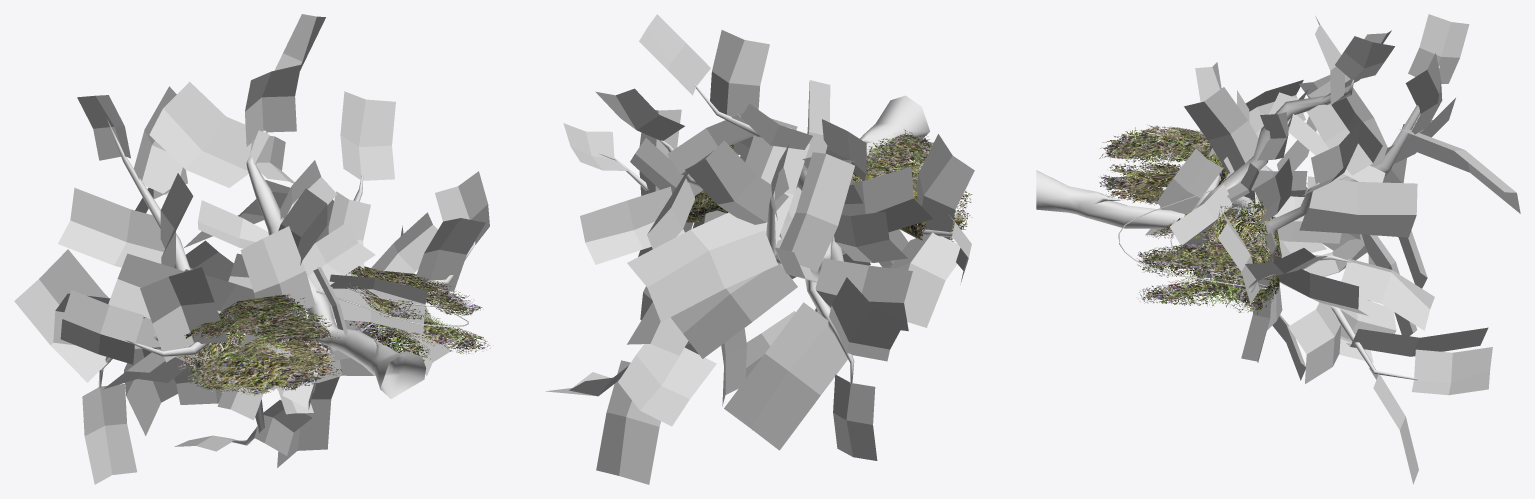
The model's file is Tree 1 v1 - LOD 1.fbx.
3 renders of one model, left to right at view 1: azimuth 30°, elevation 25°; view 2: azimuth 150°, elevation 25°; view 3: azimuth 270°, elevation 25°, orthographic. The views are drawn at different scales.
Parts seen in each view (by area): view 1: Branches 1 v1 - LOD 1, Hanging Moss 1 v1 - LOD 1, Bark 1 v1 - LOD 1; view 2: Branches 1 v1 - LOD 1, Bark 1 v1 - LOD 1, Hanging Moss 1 v1 - LOD 1; view 3: Branches 1 v1 - LOD 1, Hanging Moss 1 v1 - LOD 1, Bark 1 v1 - LOD 1, Vines 1 v1 - LOD 1.
Part boxes in pixels (left/top/right/bottom): Branches 1 v1 - LOD 1: left=14, top=14, right=489, bottom=484; Hanging Moss 1 v1 - LOD 1: left=176, top=266, right=490, bottom=395; Bark 1 v1 - LOD 1: left=98, top=119, right=475, bottom=445; Branches 1 v1 - LOD 1: left=546, top=14, right=974, bottom=484; Bark 1 v1 - LOD 1: left=599, top=84, right=952, bottom=384; Hanging Moss 1 v1 - LOD 1: left=686, top=129, right=972, bottom=241; Branches 1 v1 - LOD 1: left=1145, top=14, right=1520, bottom=484; Hanging Moss 1 v1 - LOD 1: left=1099, top=124, right=1281, bottom=314; Bark 1 v1 - LOD 1: left=1036, top=65, right=1439, bottom=380; Vines 1 v1 - LOD 1: left=1118, top=187, right=1267, bottom=289.
Bounding box in the file's own units: 23.85 × 25.32 × 25.4.
